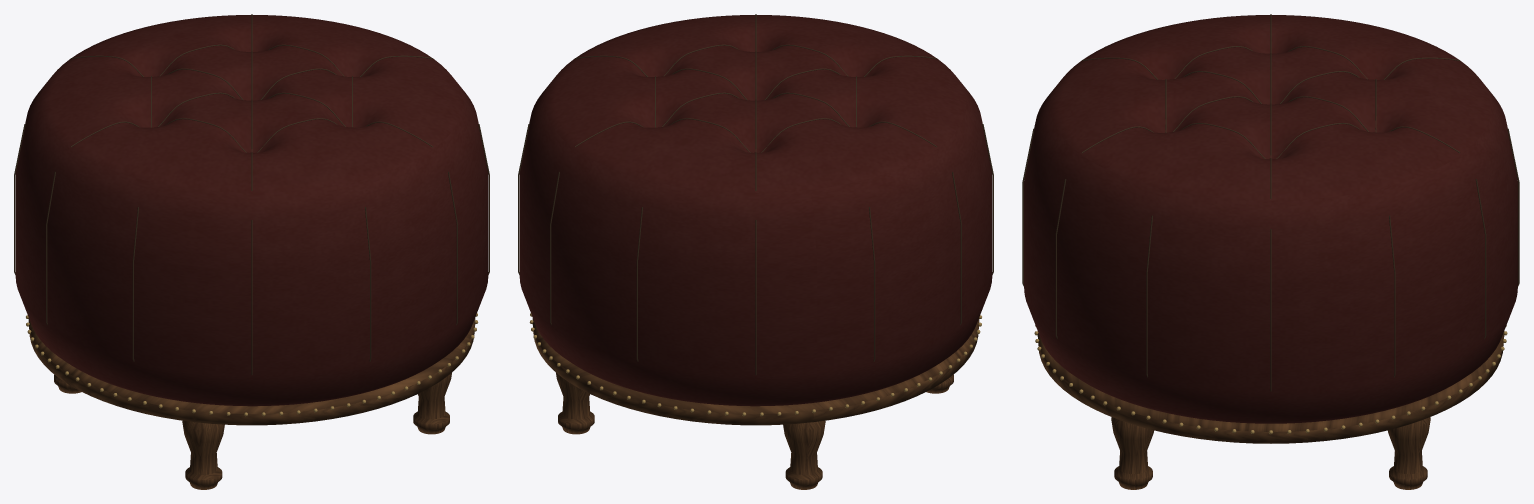
Rendered from dark_academia_pufe.glb.
3 renders of one model, left to right at view 1: azimuth 30°, elevation 25°; view 2: azimuth 150°, elevation 25°; view 3: azimuth 270°, elevation 25°, orthographic. The views are drawn at different scales.
Visible parts, largest first — view 1: pufe; view 2: pufe; view 3: pufe.
Part boxes in pixels (bbox=[...]): pufe: bbox=[14, 14, 489, 489]; pufe: bbox=[518, 14, 993, 489]; pufe: bbox=[1022, 14, 1519, 489].
Bounding box in the file's own units: 0.5536 × 0.417 × 0.5536.
4 materials, 2 textured.
